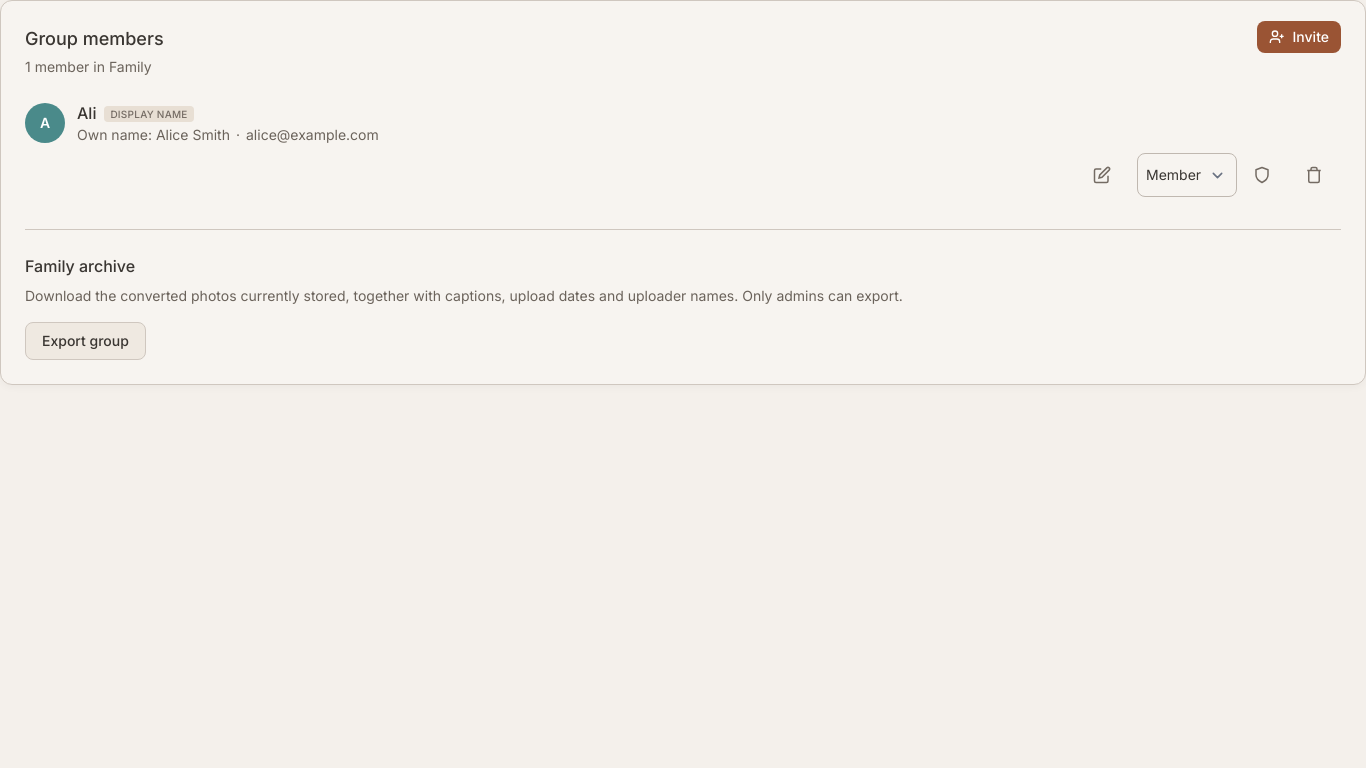
MembersList display names › takes the canonical name from the response, so a row cannot go stale
Expected: the text "Ali" is shown, [77,103,96,123]
Click the button named "Set Ali's display name in Family".
click(1107, 175)  # box [1085,153,1129,197]
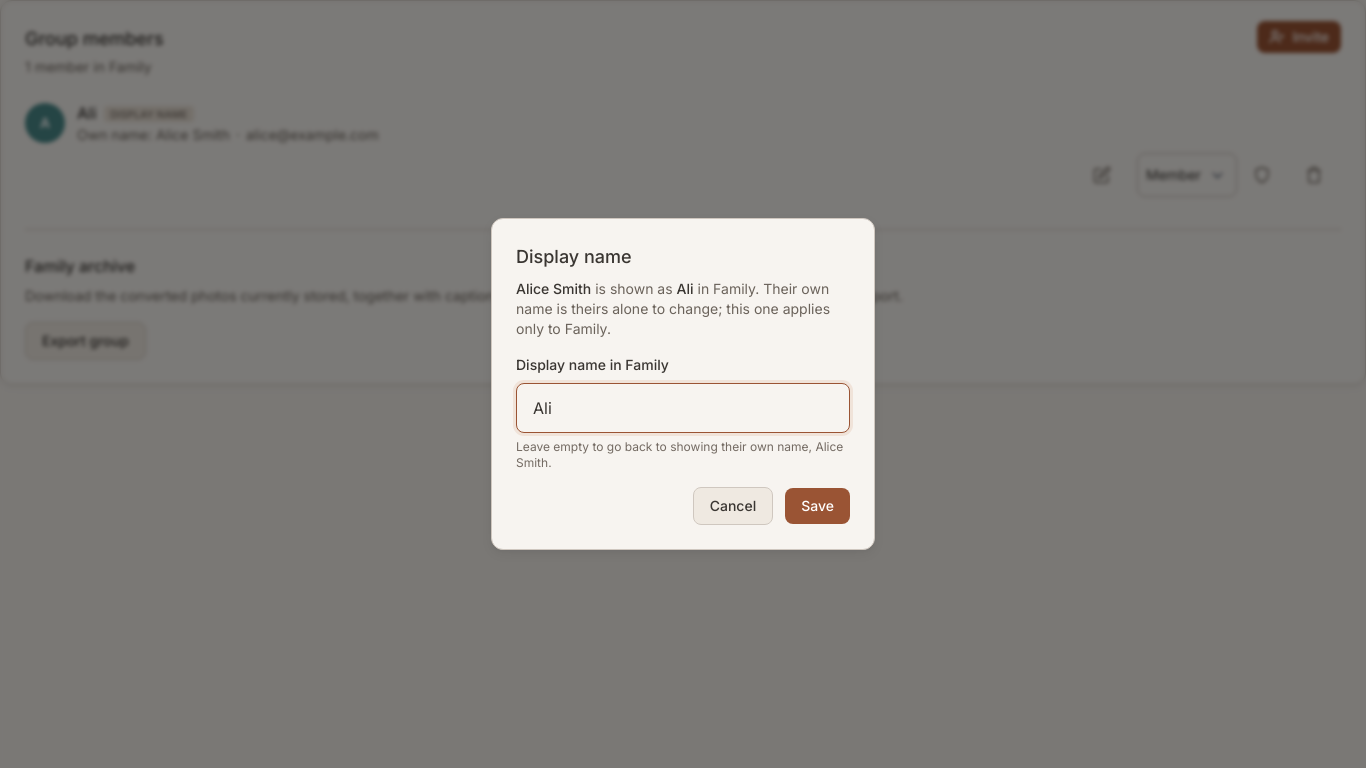
Replace the text in the field labelled "Display name in Family" with "Ali B" at (683, 408), box [516,383,850,433]
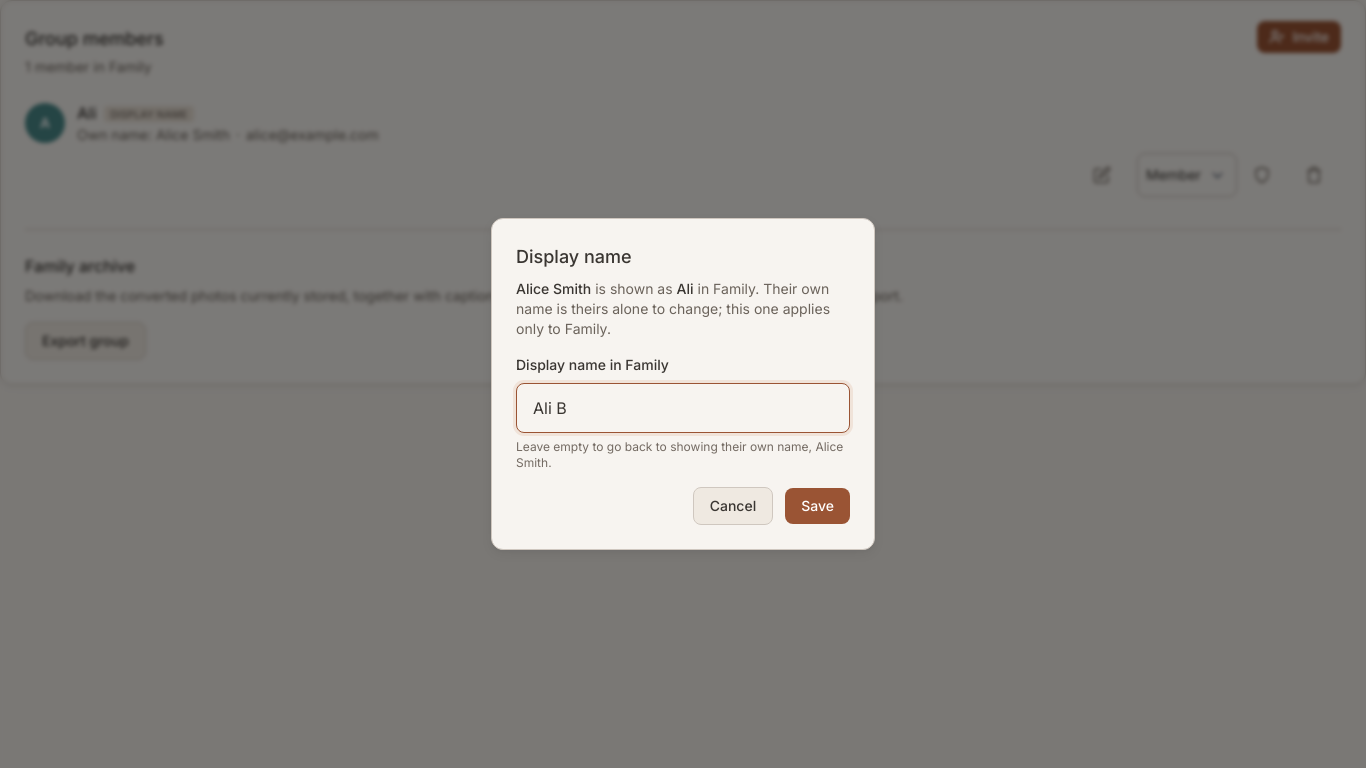
Click the button "Save".
click(818, 506)  # box [785,488,850,524]
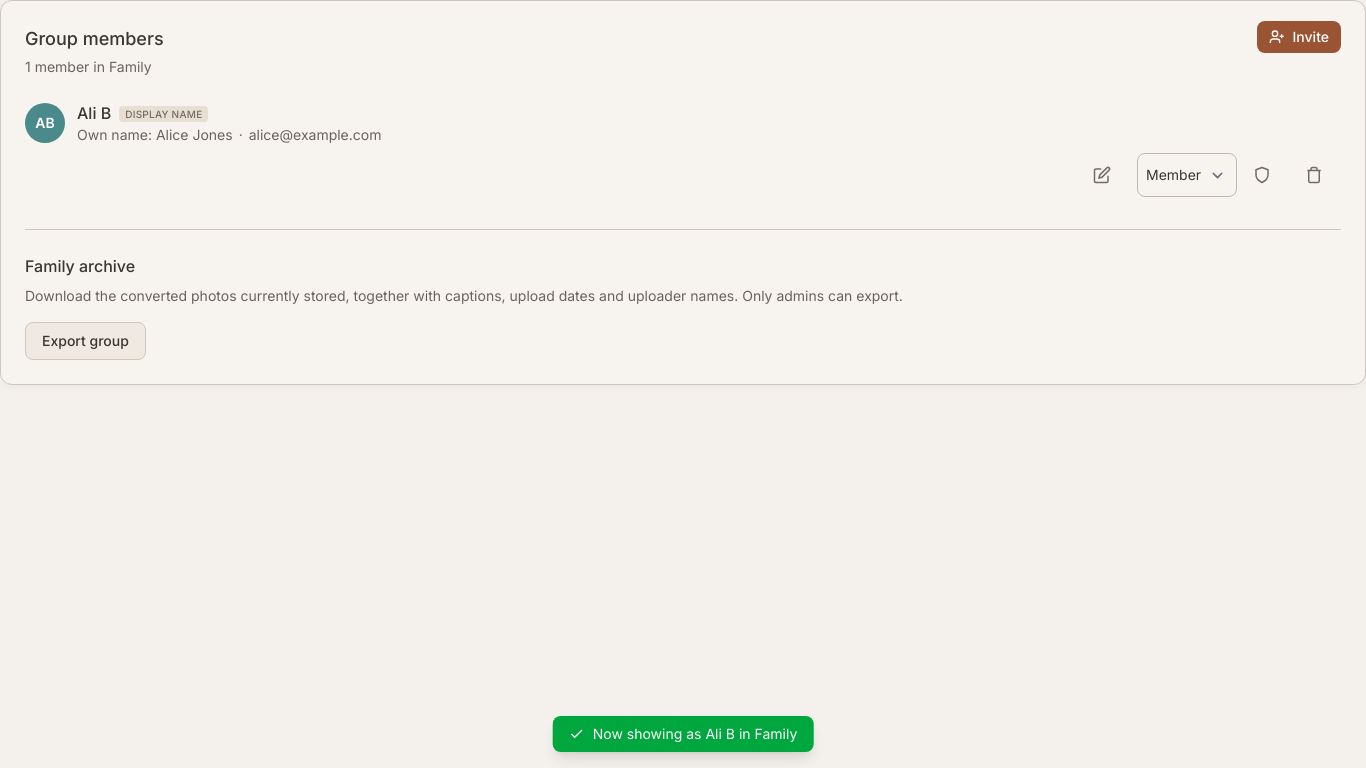
Expected: the text "Own name: Alice Jones" is shown, [77,126,233,143]
Expected: the text "Own name: Alice Smith" is gone
